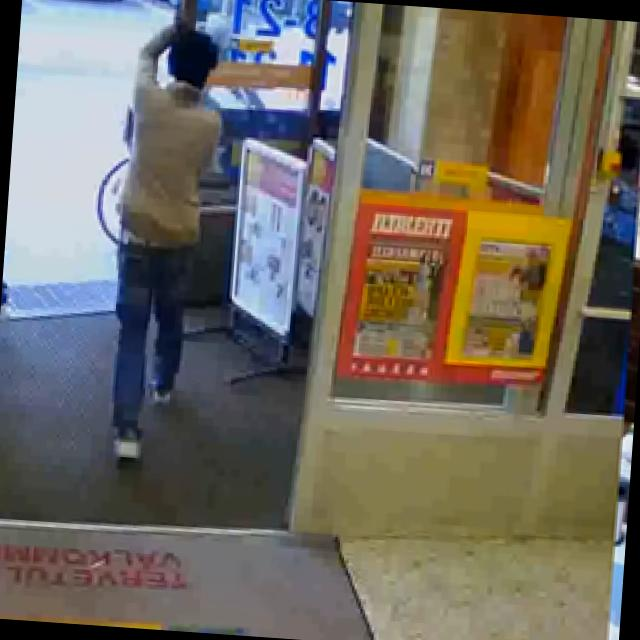person: (98, 11, 232, 467)
